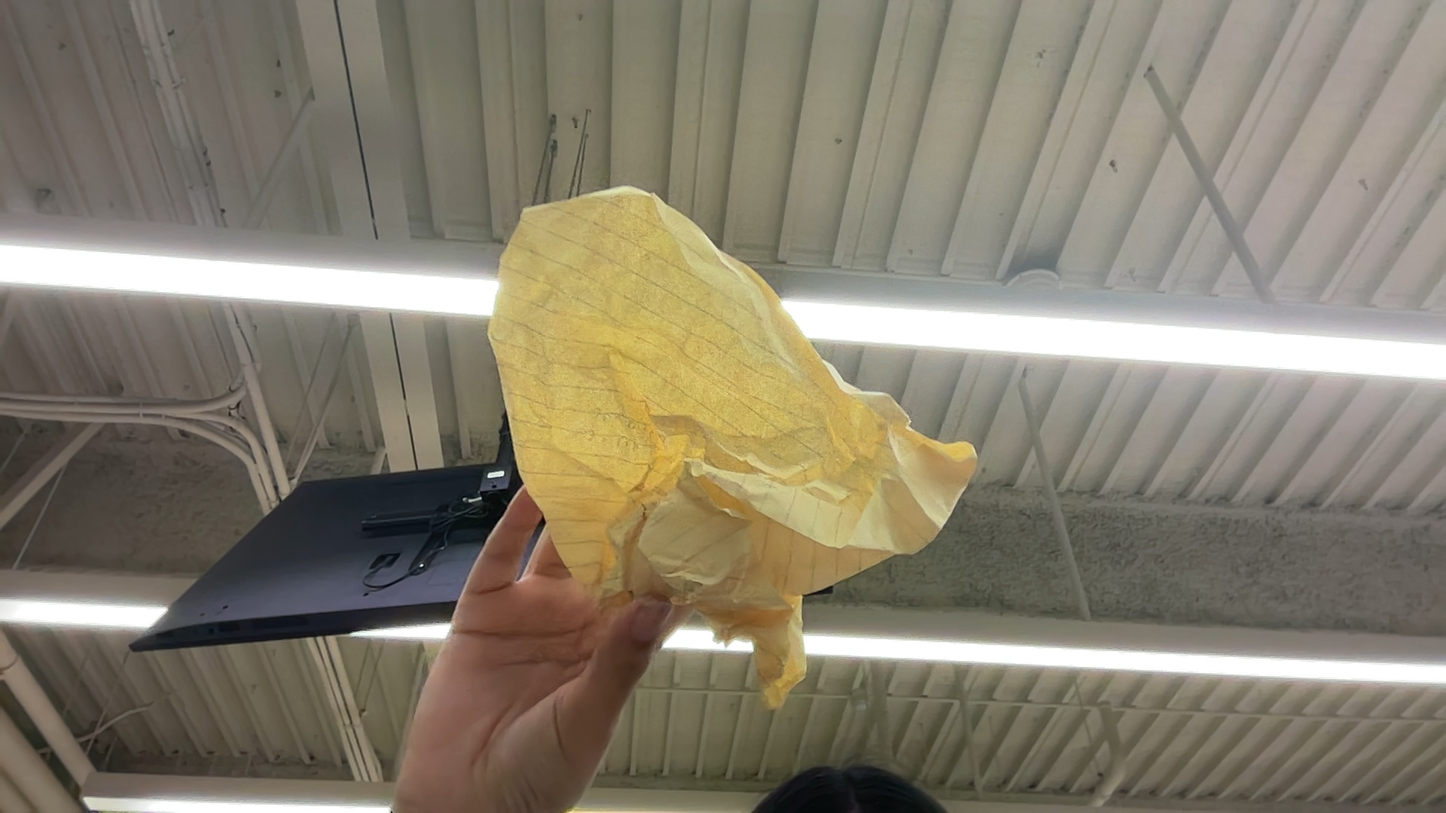Paper: (661, 624, 755, 649)
